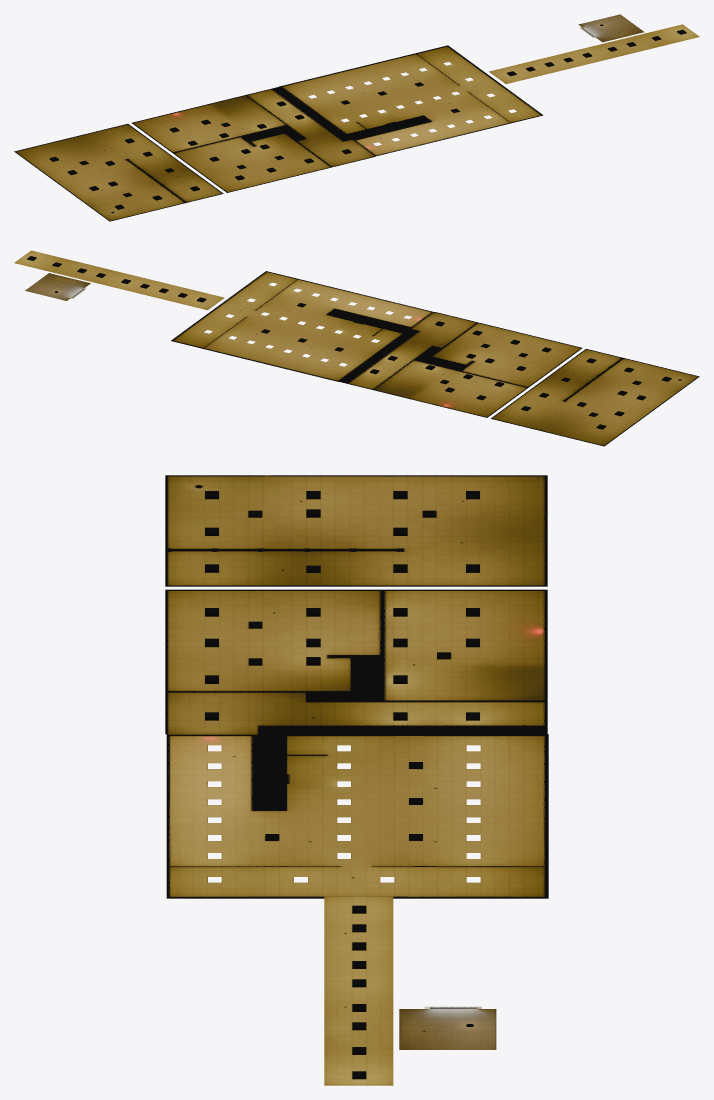
File: Backrooms_Ceilings_AllSectors.obj
3 views of the same model, one above another, from view 1: azimuth 30°, elevation 25°; view 2: azimuth 150°, elevation 25°; view 3: azimuth 270°, elevation 25° (orthographic). The views are drawn at different scales.
Visible parts, largest first — view 1: Ceiling_Sector2, Ceiling_Sector3, Ceiling_Sector4, Ceiling_Sector1; view 2: Ceiling_Sector2, Ceiling_Sector3, Ceiling_Sector4, Ceiling_Sector1; view 3: Ceiling_Sector2, Ceiling_Sector3, Ceiling_Sector4, Ceiling_Sector1.
Part boxes in pixels (x1=…): Ceiling_Sector2: x1=279, y1=45, x2=543, y2=156; Ceiling_Sector3: x1=132, y1=86, x2=375, y2=192; Ceiling_Sector4: x1=14, y1=124, x2=223, y2=221; Ceiling_Sector1: x1=489, y1=14, x2=699, y2=83; Ceiling_Sector2: x1=171, y1=271, x2=433, y2=381; Ceiling_Sector3: x1=339, y1=312, x2=582, y2=417; Ceiling_Sector4: x1=491, y1=349, x2=699, y2=446; Ceiling_Sector1: x1=14, y1=250, x2=224, y2=310; Ceiling_Sector2: x1=166, y1=734, x2=548, y2=898; Ceiling_Sector3: x1=165, y1=589, x2=547, y2=734; Ceiling_Sector4: x1=165, y1=475, x2=547, y2=586; Ceiling_Sector1: x1=324, y1=896, x2=496, y2=1085.
Size of the model in its own units: 7567 by 33.75 by 1999.
Materials: 4 (4 with a texture image).
